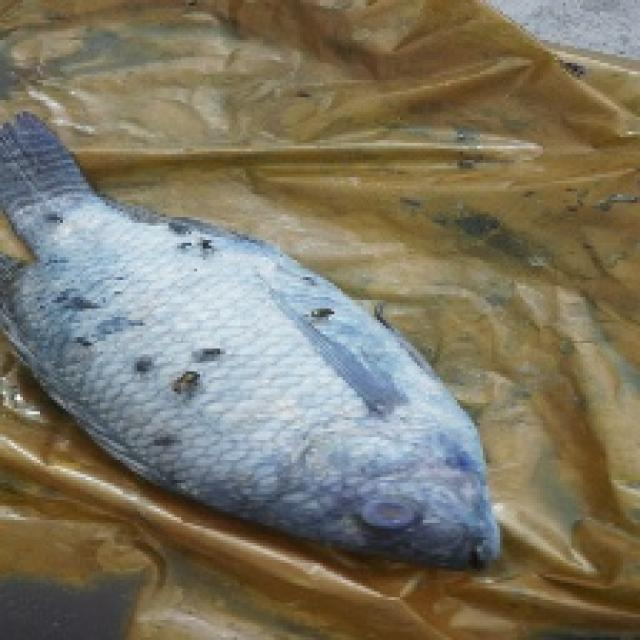Non-Fresh: (14, 182, 494, 578), (352, 487, 422, 538)
